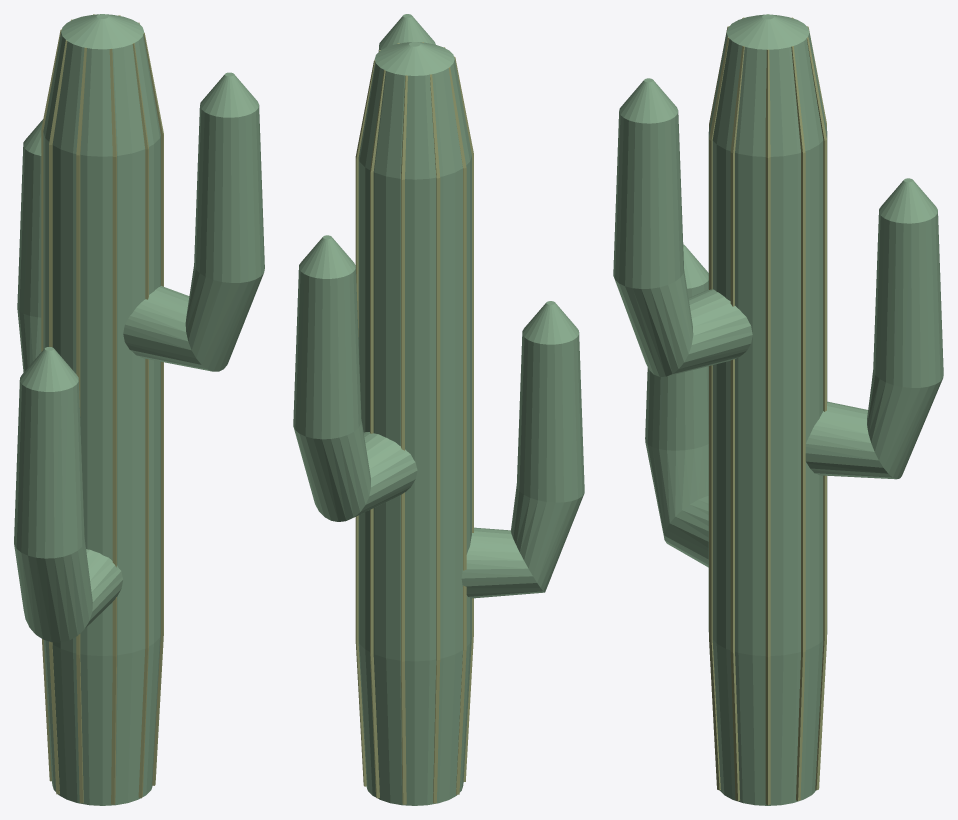
Rendered from cactus1.glb.
3 views of the same model, side by side, from view 1: azimuth 30°, elevation 25°; view 2: azimuth 150°, elevation 25°; view 3: azimuth 270°, elevation 25° (orthographic). The views are drawn at different scales.
Visible parts, largest first — view 1: columnar-cactus; view 2: columnar-cactus; view 3: columnar-cactus.
Part boxes in pixels (box(x1,y1,x2,y2)): columnar-cactus: box(14, 14, 264, 805); columnar-cactus: box(293, 14, 584, 805); columnar-cactus: box(613, 14, 943, 805).
Bounding box in the file's own units: 1.23 × 4 × 1.56.
